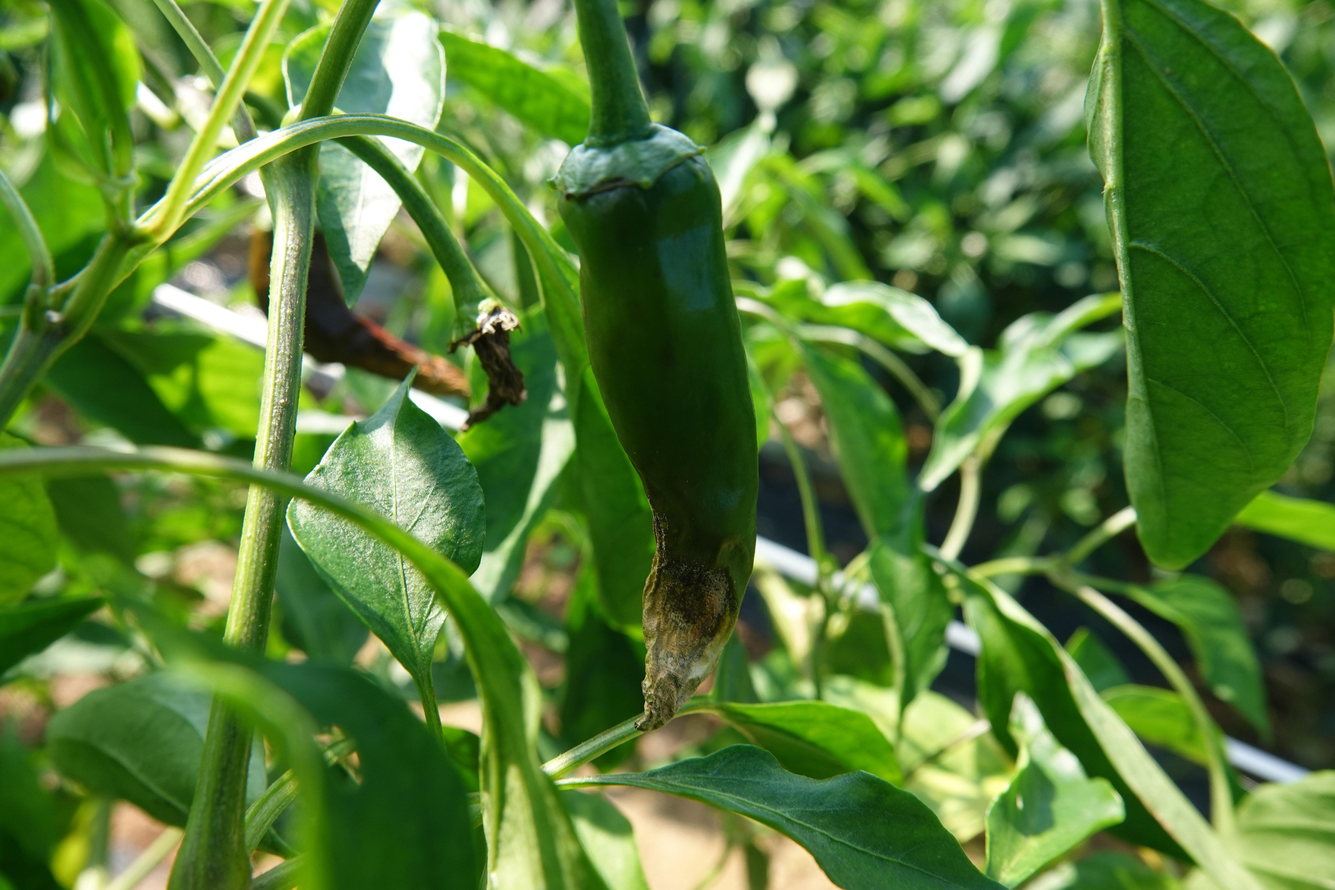Busuk Buah Antraknosa: (547, 115, 763, 735)
Daun Cabai Sehat: (1073, 1, 1335, 587), (283, 350, 488, 662)
